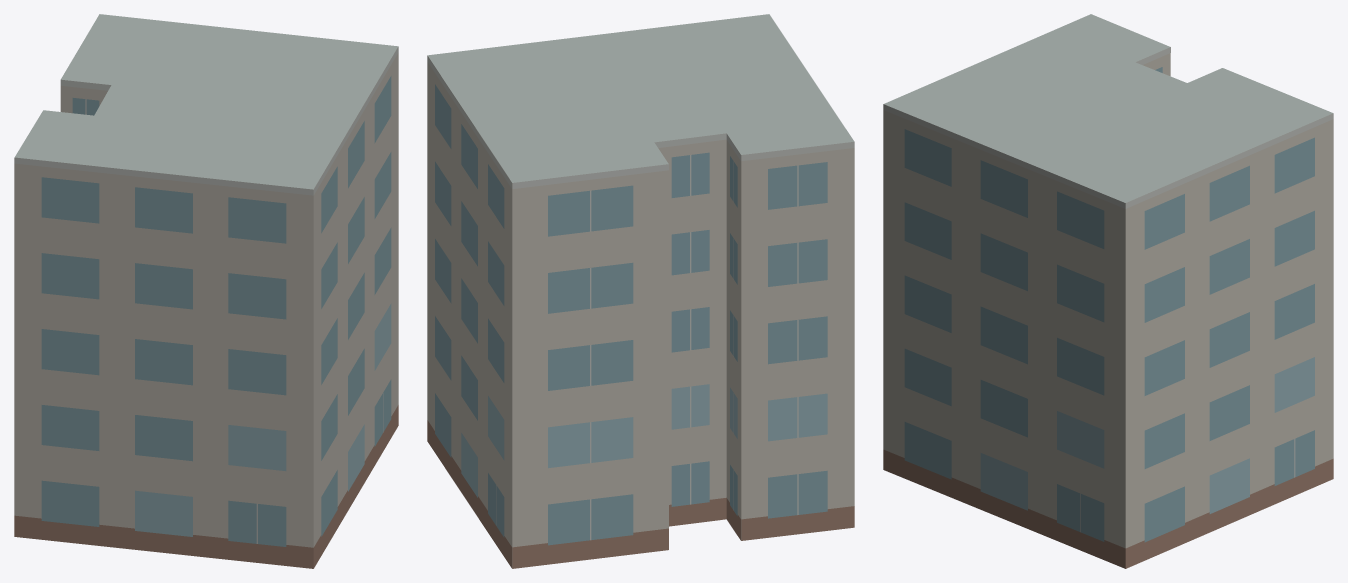
Rendered from survey-upis-32886575.glb.
The picture shows the model from 3 angles, left to right: view 1: azimuth 30°, elevation 25°; view 2: azimuth 150°, elevation 25°; view 3: azimuth 270°, elevation 25°; orthographic projection. The views are drawn at different scales.
Parts seen in each view (by area): view 1: survey-upis-32886575.tmp; view 2: survey-upis-32886575.tmp; view 3: survey-upis-32886575.tmp.
Boxes of the visible parts, box(x1,y1,x2,y2) form: survey-upis-32886575.tmp: box(14, 14, 398, 568); survey-upis-32886575.tmp: box(427, 14, 854, 568); survey-upis-32886575.tmp: box(883, 14, 1333, 568).
Bounding box in the file's own units: 16.86 × 15.2 × 16.96.
